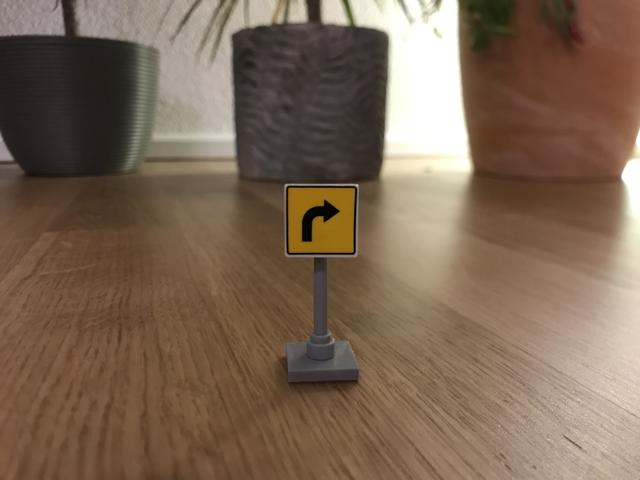fahrtrichtung rechts: (283, 181, 361, 260)
